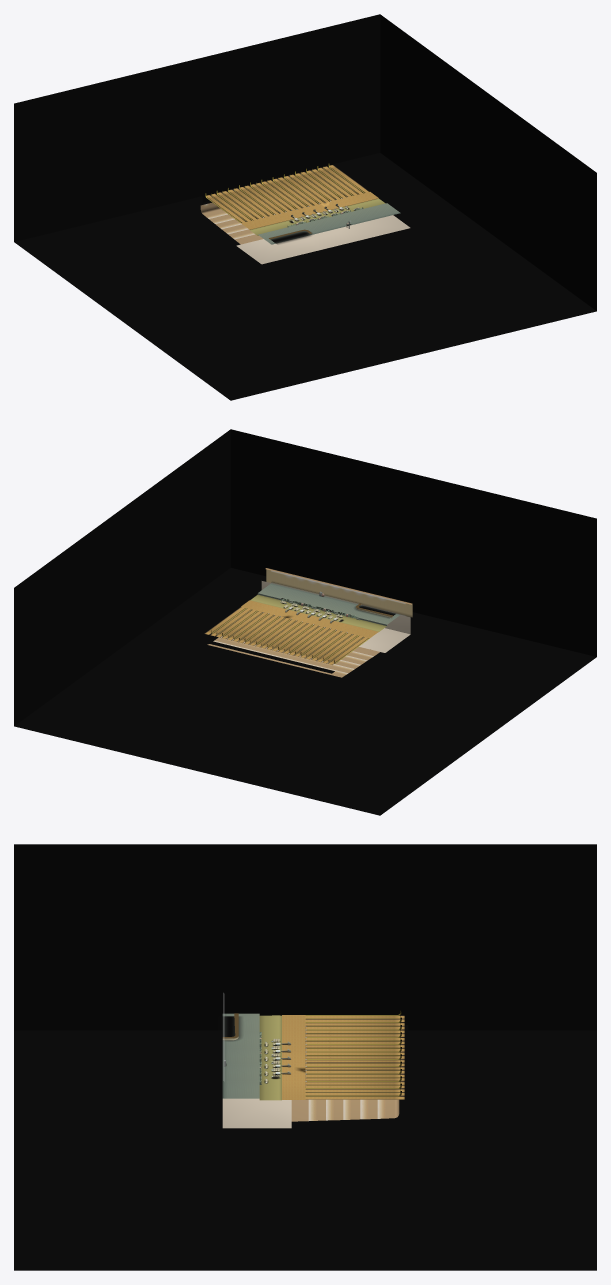
File: bwg_field__bwg_field.glb
3 views of the same model, one above another, from view 1: azimuth 30°, elevation 25°; view 2: azimuth 150°, elevation 25°; view 3: azimuth 270°, elevation 25° (orthographic). The views are drawn at different scales.
Visible parts, largest first — view 1: polygon235, polygon10, polygon1, polygon113, polygon507, polygon119, polygon0, polygon477; view 2: polygon235, polygon1, polygon10, polygon113, polygon475, polygon507, polygon119, polygon0, polygon477; view 3: polygon235, polygon1, polygon10, polygon113, polygon507, polygon119, polygon0, polygon477, polygon7.
Part boxes in pixels (x1,y1,x2,y2): polygon235: [14, 14, 596, 400]; polygon10: [200, 164, 410, 264]; polygon1: [206, 165, 378, 229]; polygon113: [207, 165, 369, 222]; polygon507: [258, 203, 400, 244]; polygon119: [205, 163, 364, 222]; polygon0: [241, 192, 378, 229]; polygon477: [250, 198, 385, 235]; polygon235: [14, 429, 596, 815]; polygon1: [205, 607, 367, 664]; polygon10: [203, 581, 410, 677]; polygon113: [204, 607, 368, 664]; polygon475: [266, 568, 412, 617]; polygon507: [257, 583, 399, 625]; polygon119: [211, 608, 369, 663]; polygon0: [241, 600, 378, 637]; polygon477: [250, 594, 386, 631]; polygon235: [14, 844, 596, 1270]; polygon1: [305, 1016, 404, 1099]; polygon10: [222, 1025, 408, 1128]; polygon113: [305, 1015, 404, 1099]; polygon507: [222, 1013, 261, 1098]; polygon119: [305, 1010, 401, 1096]; polygon0: [282, 1015, 305, 1099]; polygon477: [259, 1015, 281, 1100]; polygon7: [218, 1016, 280, 1083].
Size of the model in its own units: 1101 by 398 by 1128.
Materials: 23 (23 with a texture image).
